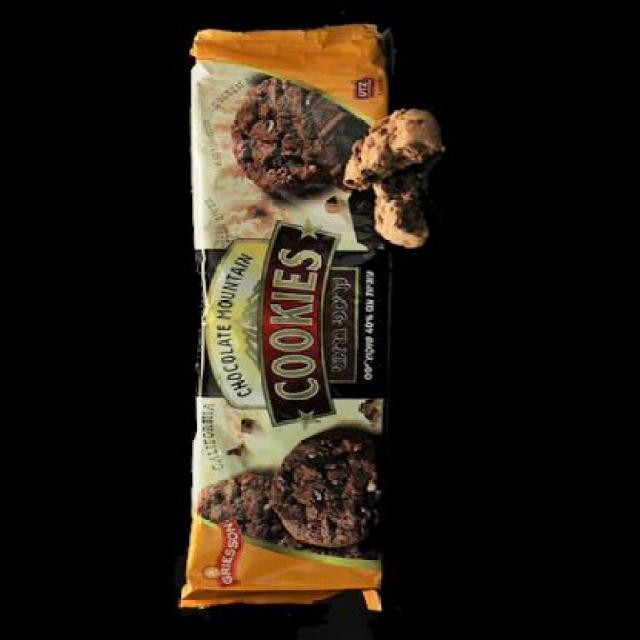Cookie: (175, 30, 396, 612), (342, 105, 446, 257)
